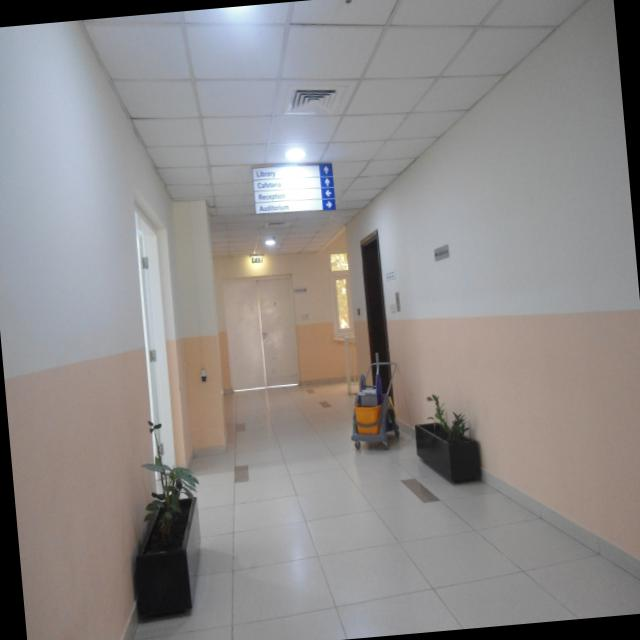bush: (111, 464, 212, 620), (410, 408, 488, 494)
cleaningCart: (338, 326, 410, 459)
door: (126, 192, 187, 494), (217, 273, 310, 406), (354, 225, 401, 416)
exitLight: (240, 248, 276, 274)
sign: (252, 160, 332, 220)
wall: (337, 0, 640, 616), (0, 13, 211, 640)
